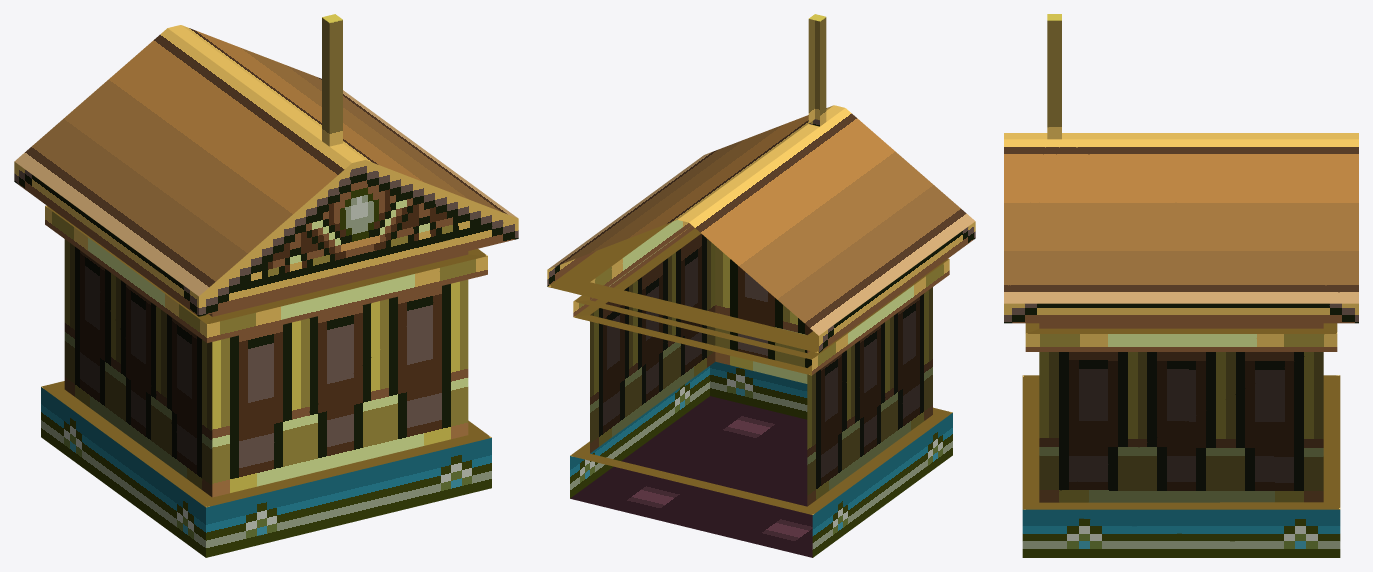
The model's file is top_bonus_1.obj.
3 renders of one model, left to right at view 1: azimuth 30°, elevation 25°; view 2: azimuth 150°, elevation 25°; view 3: azimuth 270°, elevation 25°, orthographic. The views are drawn at different scales.
Parts seen in each view (by area): view 1: top_bonus_1_part0; view 2: top_bonus_1_part0, top_bonus_1_part1; view 3: top_bonus_1_part0.
Part boxes in pixels (x1,y1,x2,y2): top_bonus_1_part0: (14, 14, 518, 557); top_bonus_1_part0: (547, 14, 975, 557); top_bonus_1_part1: (570, 396, 812, 557); top_bonus_1_part0: (1004, 14, 1358, 557).
Size of the model in its own units: 286 by 421 by 286.
2 materials, 2 textured.
